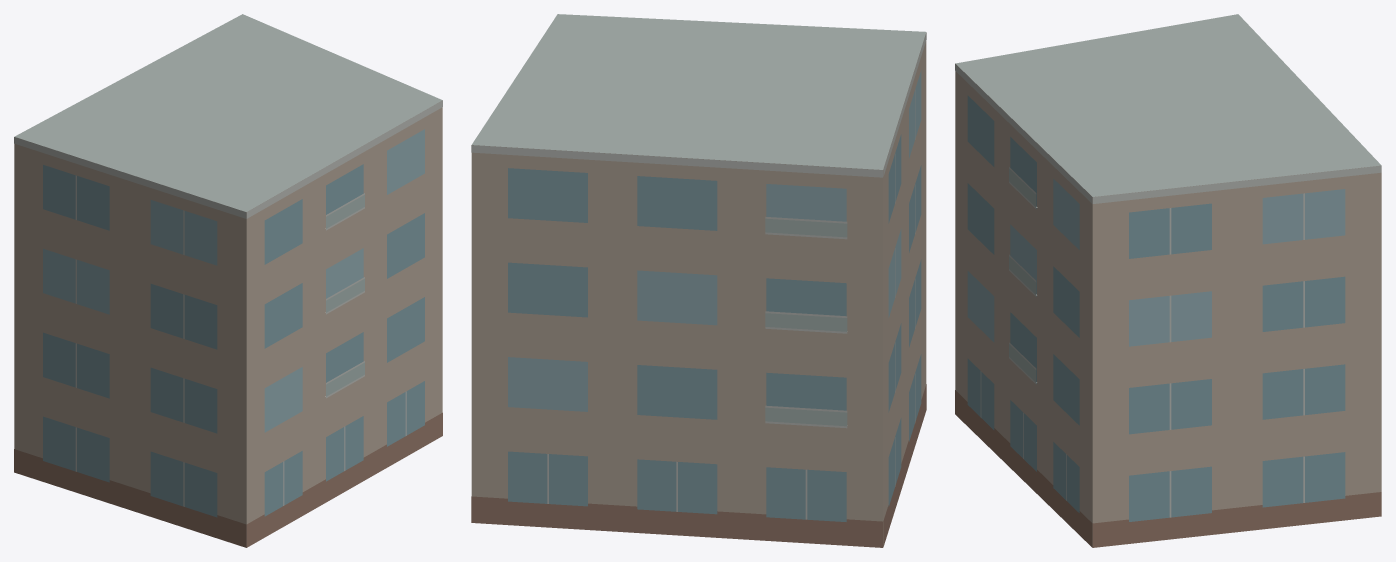
The model's file is survey-upis-32858978.glb.
3 renders of one model, left to right at view 1: azimuth 30°, elevation 25°; view 2: azimuth 150°, elevation 25°; view 3: azimuth 270°, elevation 25°, orthographic. The views are drawn at different scales.
Parts seen in each view (by area): view 1: survey-upis-32858978.tmp; view 2: survey-upis-32858978.tmp; view 3: survey-upis-32858978.tmp.
Boxes of the visible parts, x1=… form: survey-upis-32858978.tmp: x1=14, y1=14, x2=442, y2=547; survey-upis-32858978.tmp: x1=471, y1=14, x2=926, y2=547; survey-upis-32858978.tmp: x1=955, y1=14, x2=1381, y2=547.
Bounding box in the file's own units: 13.44 × 12 × 13.23.
